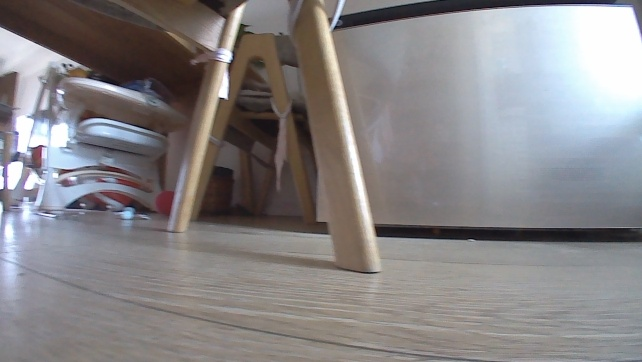dining_table1: (0, 0, 389, 279)
refrigerator1: (302, 0, 641, 234)
